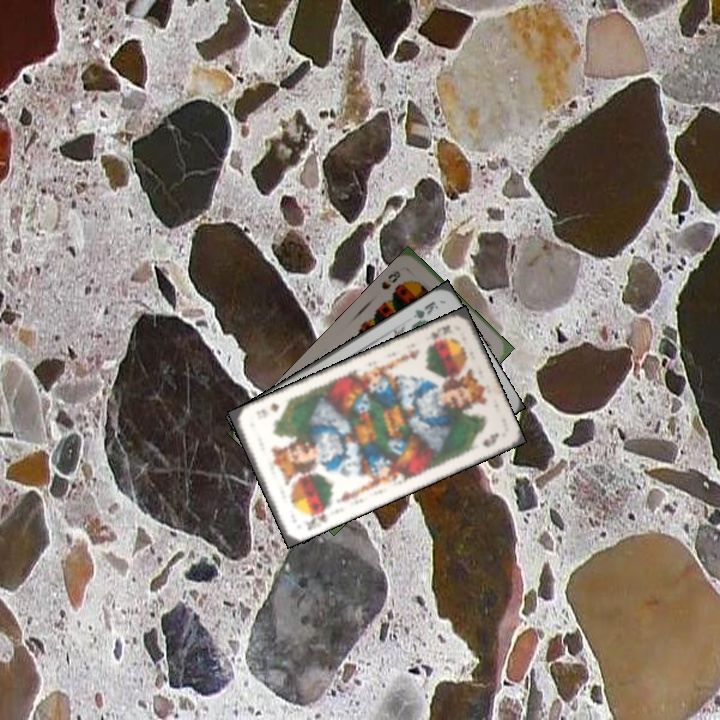GK: (408, 297, 441, 328)
S8: (377, 267, 403, 292)
SK: (302, 504, 331, 533), (427, 321, 454, 341)
